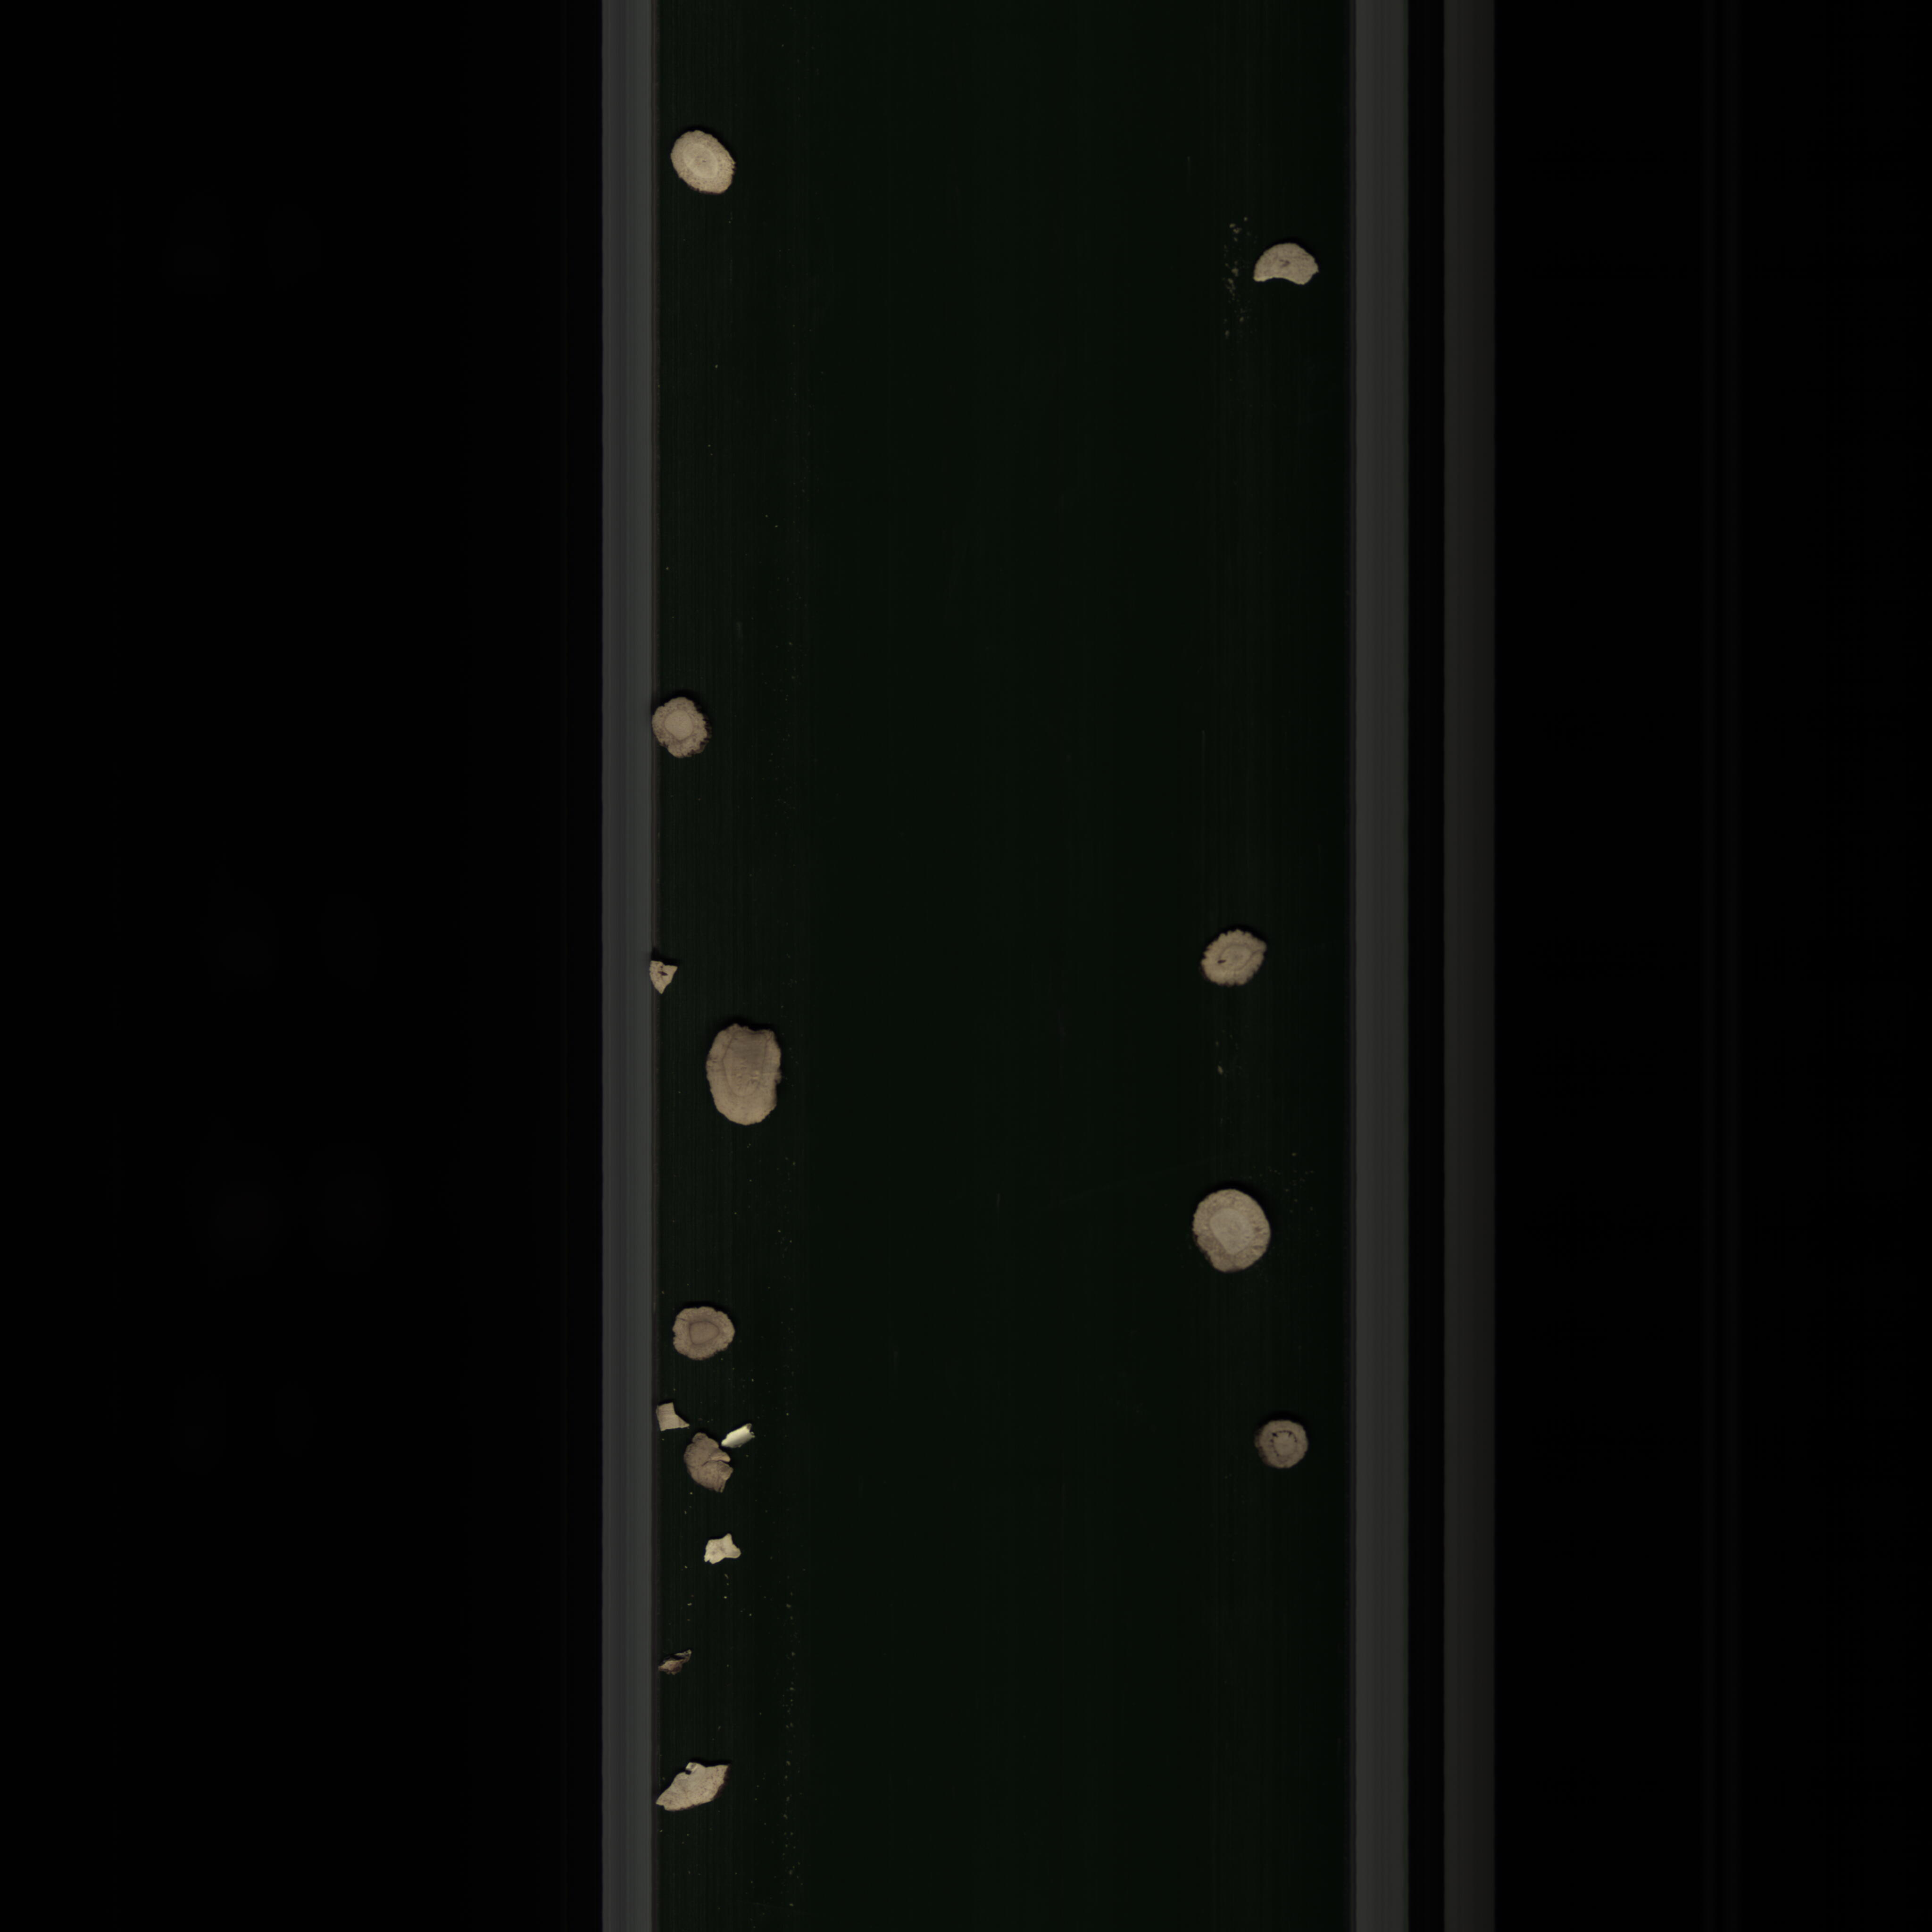debris: (655, 1753, 736, 1822), (1240, 242, 1327, 294), (683, 1428, 745, 1499), (651, 1399, 697, 1438)
hole: (1247, 1414, 1309, 1477)
moldy: (635, 950, 692, 1007)
